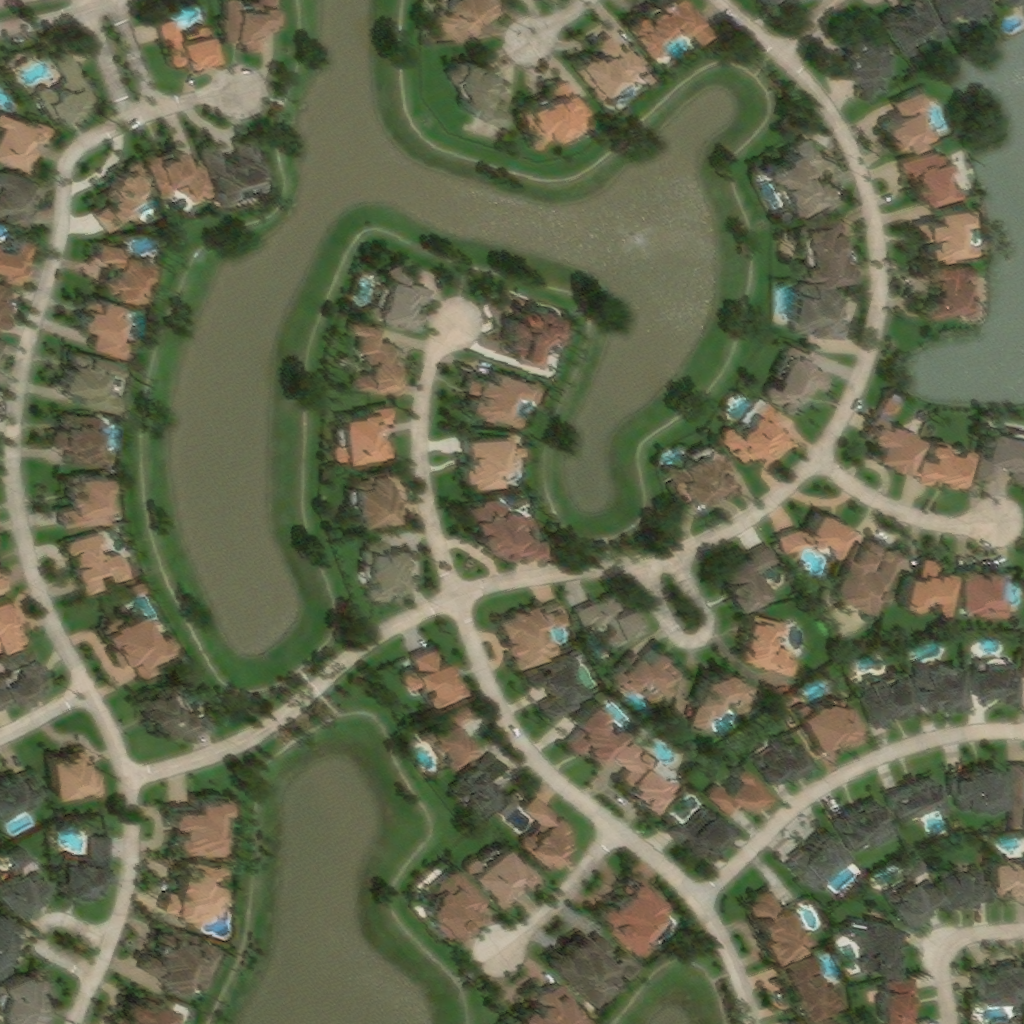no_damage: (548, 933, 640, 1005), (600, 872, 671, 954), (836, 538, 906, 616), (764, 136, 833, 211), (576, 33, 654, 99), (466, 495, 545, 560), (104, 607, 172, 681), (520, 79, 590, 150), (141, 925, 211, 995), (866, 393, 925, 476), (748, 890, 815, 962), (527, 646, 588, 724), (463, 365, 542, 425), (627, 0, 714, 54), (613, 740, 681, 809), (426, 866, 489, 940), (503, 603, 571, 671), (766, 344, 833, 413), (690, 666, 756, 734), (38, 50, 97, 126), (723, 399, 792, 463), (370, 263, 434, 332), (665, 447, 740, 504), (156, 862, 221, 927), (66, 530, 132, 594), (199, 134, 262, 200), (139, 686, 214, 741), (665, 805, 737, 862), (610, 646, 683, 702), (168, 789, 228, 856), (504, 298, 563, 366), (96, 162, 151, 234), (575, 592, 642, 651), (522, 793, 574, 869), (890, 854, 943, 928), (779, 506, 854, 558), (450, 54, 505, 124), (781, 953, 844, 1014), (887, 0, 951, 60), (465, 841, 531, 899), (570, 696, 628, 762), (743, 614, 801, 680), (837, 35, 893, 103), (881, 87, 937, 155), (61, 349, 122, 410), (790, 834, 853, 893), (706, 761, 772, 817), (727, 543, 779, 614), (332, 405, 393, 465), (402, 646, 463, 706), (500, 979, 583, 1023), (146, 140, 210, 197), (858, 665, 914, 730), (462, 430, 525, 487), (836, 799, 899, 856), (796, 213, 850, 279), (351, 320, 399, 394), (843, 916, 902, 975), (915, 259, 977, 315), (793, 280, 848, 343), (0, 846, 53, 911), (99, 240, 155, 301), (454, 758, 508, 821), (916, 201, 974, 259), (424, 702, 474, 769), (54, 413, 114, 468), (59, 469, 113, 530), (798, 696, 860, 749), (80, 293, 132, 356), (886, 774, 946, 828), (61, 835, 113, 897), (0, 107, 51, 170), (48, 747, 106, 802), (160, 18, 220, 71), (365, 540, 416, 602), (749, 733, 813, 782), (904, 148, 959, 205), (901, 556, 954, 615), (912, 439, 974, 489), (958, 564, 1010, 622), (0, 971, 56, 1023), (975, 424, 1022, 485), (949, 764, 1006, 813), (912, 659, 967, 709), (0, 643, 41, 710), (354, 469, 401, 525), (224, 0, 276, 50), (975, 961, 1022, 1012), (431, 0, 494, 37), (970, 657, 1017, 705), (0, 772, 44, 823), (0, 230, 35, 287), (0, 167, 36, 222), (942, 866, 988, 906), (122, 989, 175, 1023), (880, 977, 916, 1022), (934, 0, 996, 25), (0, 592, 25, 650), (989, 856, 1022, 897), (0, 909, 15, 980), (0, 277, 17, 323), (1011, 764, 1022, 824), (790, 1016, 840, 1023), (1004, 0, 1020, 8), (0, 569, 4, 590)
